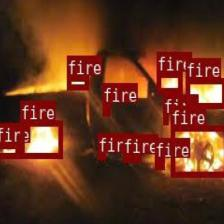fire: (170, 125, 224, 177), (20, 120, 62, 158), (185, 77, 224, 107), (156, 72, 181, 92), (66, 74, 88, 89), (0, 142, 19, 157), (122, 153, 140, 161), (154, 157, 164, 169), (101, 103, 110, 114), (162, 114, 168, 123), (97, 152, 104, 158)
